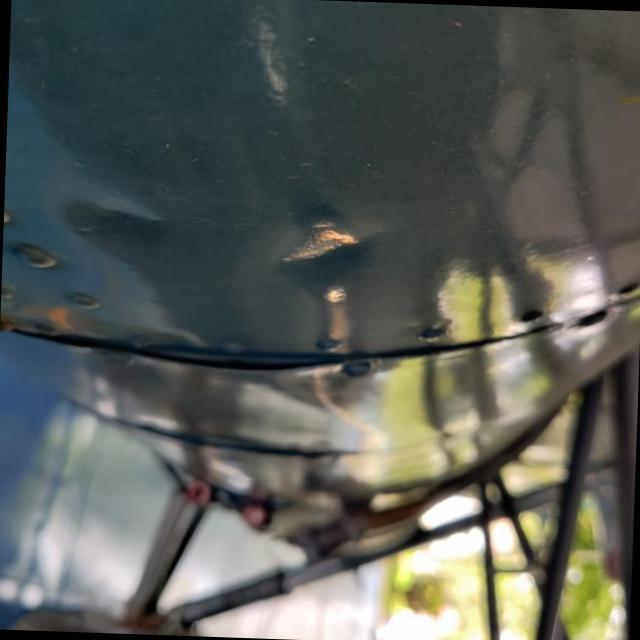Dent: (266, 186, 384, 318), (52, 172, 179, 290)
